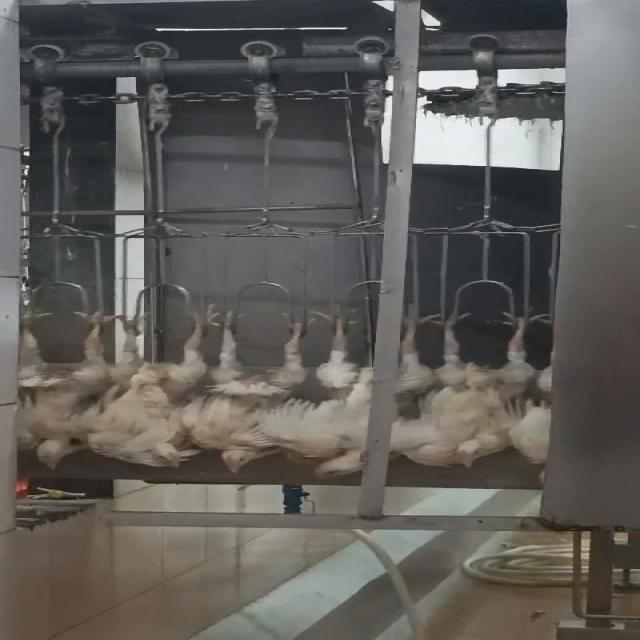chicken: (100, 296, 240, 472), (391, 308, 544, 468), (194, 304, 338, 473), (0, 294, 131, 468), (304, 307, 421, 481)
